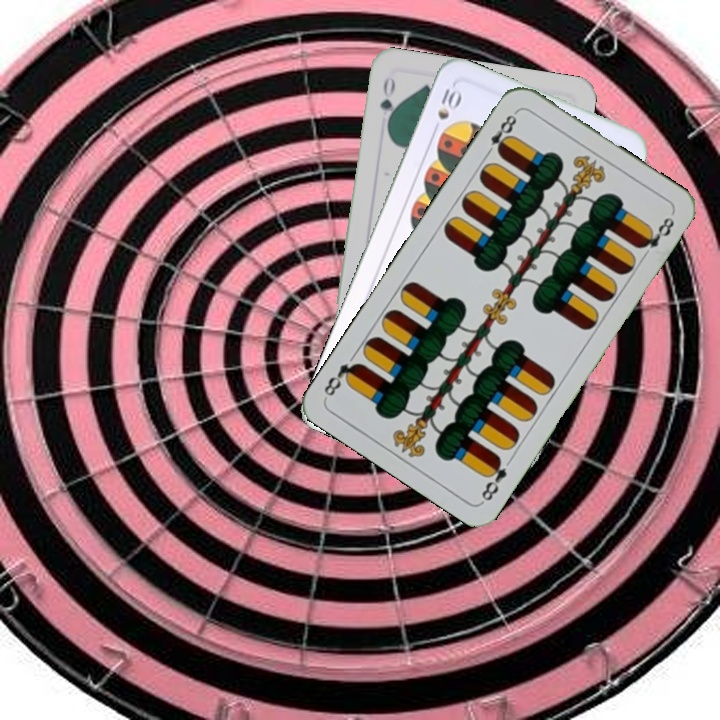E8: (481, 107, 521, 159), (477, 452, 510, 506)
GO: (375, 72, 399, 132)
S10: (428, 81, 464, 137)
